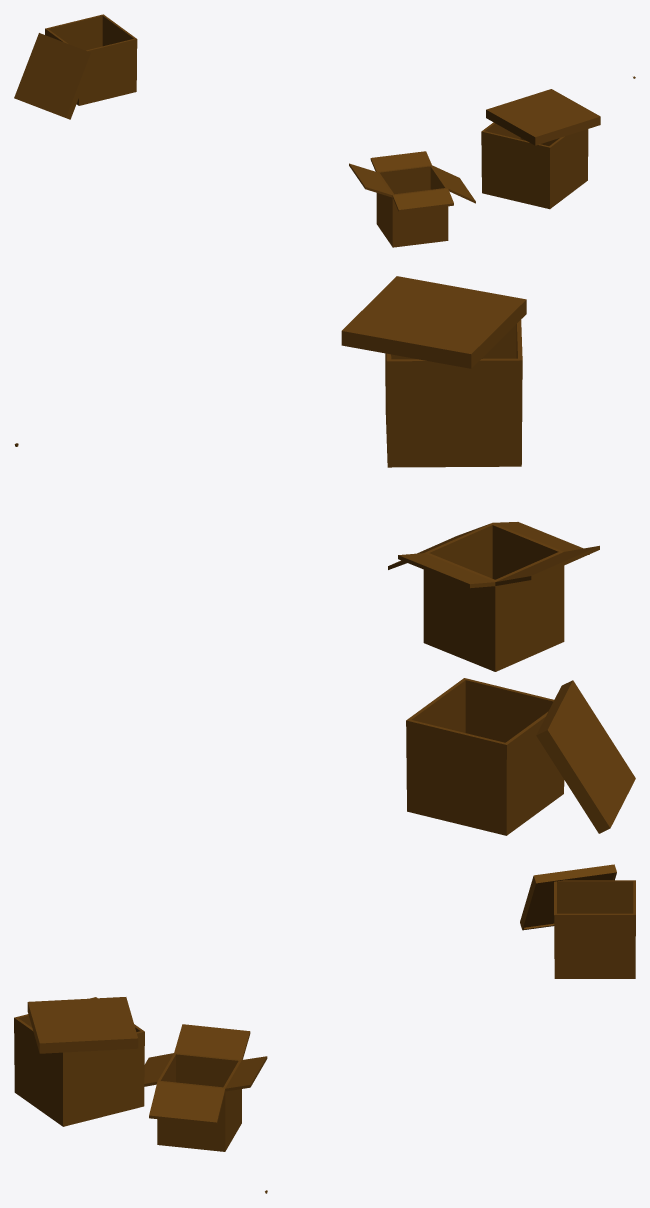
The model's file is objekts1-boxs.glb.
3 views of the same model, one above another, from view 1: azimuth 30°, elevation 25°; view 2: azimuth 150°, elevation 25°; view 3: azimuth 270°, elevation 25° (orthographic). The views are drawn at different scales.
Visible parts, largest first — view 1: Box002, Box001, Box004.001; view 2: Box002, Box001, Box004.001; view 3: Box002, Box004.001, Box001.
Part boxes in pixels (left/top/right/bottom): Box002: left=481, top=89, right=600, bottom=209; Box001: left=14, top=14, right=137, bottom=119; Box004.001: left=349, top=151, right=475, bottom=247; Box002: left=341, top=276, right=526, bottom=467; Box001: left=406, top=678, right=635, bottom=835; Box004.001: left=388, top=522, right=599, bottom=671; Box002: left=14, top=997, right=144, bottom=1126; Box004.001: left=144, top=1024, right=267, bottom=1151; Box001: left=520, top=864, right=635, bottom=978.
Bounding box in the file's own units: 11.83 × 3.14 × 10.86.
